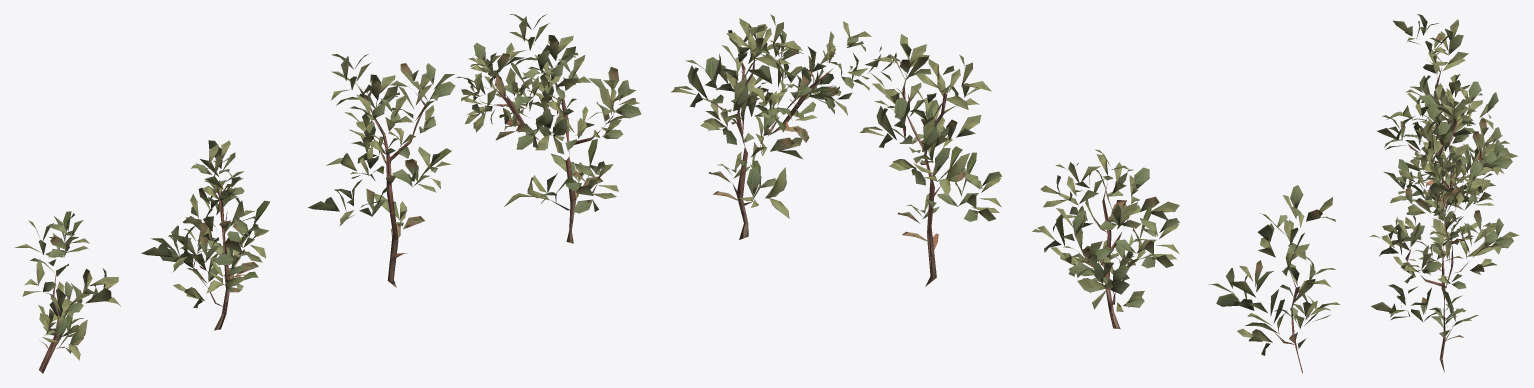
The model's file is shrub_04.glb.
3 renders of one model, left to right at view 1: azimuth 30°, elevation 25°; view 2: azimuth 150°, elevation 25°; view 3: azimuth 270°, elevation 25°, orthographic. The views are drawn at different scales.
Visible parts, largest first — view 1: shrub_04; view 2: shrub_04; view 3: shrub_04.
Part boxes in pixels (bbox=[...]): shrub_04: bbox=[14, 14, 641, 373]; shrub_04: bbox=[671, 14, 1339, 373]; shrub_04: bbox=[1369, 14, 1519, 372].
Bounding box in the file's own units: 0.5837 × 0.2185 × 0.1461.
1 material, 1 textured.
